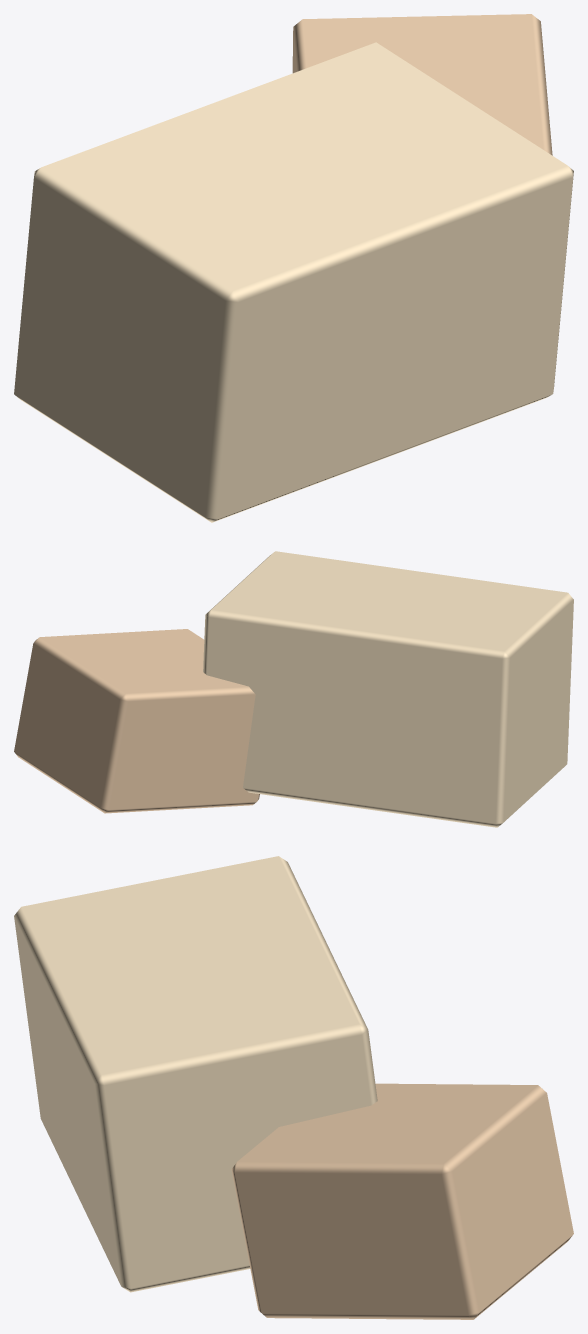
File: prop_block.glb
3 views of the same model, one above another, from view 1: azimuth 30°, elevation 25°; view 2: azimuth 150°, elevation 25°; view 3: azimuth 270°, elevation 25° (orthographic). The views are drawn at different scales.
Parts seen in each view (by area): view 1: prop_block; view 2: prop_block; view 3: prop_block.
Part boxes in pixels (x1,y1,x2,y2): prop_block: (14, 14, 573, 522); prop_block: (14, 551, 573, 827); prop_block: (14, 856, 573, 1319).
Size of the model in its own units: 2.29 by 0.9763 by 1.99.
